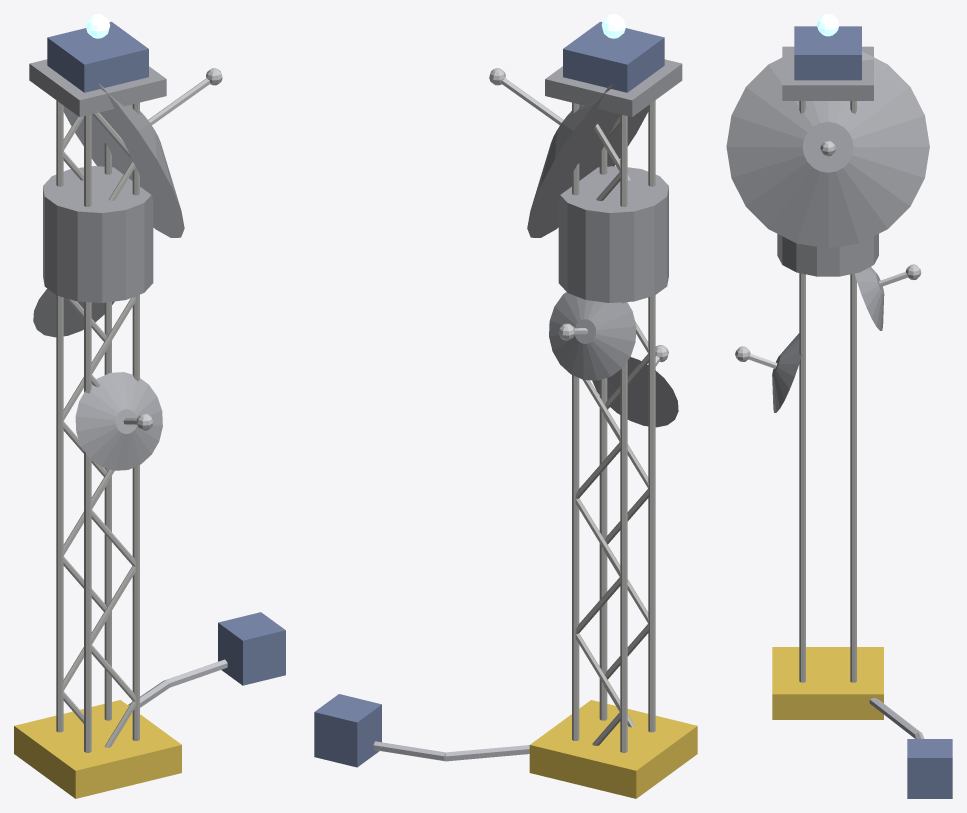
Rendered from sensor_mast.glb.
3 renders of one model, left to right at view 1: azimuth 30°, elevation 25°; view 2: azimuth 150°, elevation 25°; view 3: azimuth 270°, elevation 25°, orthographic. The views are drawn at different scales.
Visible parts, largest first — view 1: mast_col, drum, mast_foot, sub_s_dish, main_dish_dish, cap, junction, mast_head, sub_p_dish, down, main_dish_feed; view 2: mast_col, drum, mast_foot, main_dish_dish, sub_p_dish, cap, junction, mast_head, sub_s_dish, down; view 3: main_dish_dish, mast_foot, mast_col, cap, drum, junction, mast_head, sub_s_dish, sub_p_dish, down.
Boxes of the visible parts, bbox=[...] form: mast_col: bbox=[56, 100, 139, 752]; drum: bbox=[43, 166, 153, 302]; mast_foot: bbox=[14, 700, 181, 798]; sub_s_dish: bbox=[75, 372, 162, 470]; main_dish_dish: bbox=[63, 83, 184, 237]; cap: bbox=[47, 21, 148, 92]; junction: bbox=[218, 612, 285, 685]; mast_head: bbox=[29, 59, 166, 116]; sub_p_dish: bbox=[33, 288, 114, 337]; down: bbox=[128, 659, 227, 707]; main_dish_feed: bbox=[148, 78, 210, 124]; mast_col: bbox=[572, 100, 655, 752]; drum: bbox=[558, 166, 668, 302]; mast_foot: bbox=[529, 700, 697, 798]; main_dish_dish: bbox=[527, 83, 648, 237]; sub_p_dish: bbox=[549, 292, 636, 380]; cap: bbox=[563, 21, 664, 92]; junction: bbox=[314, 694, 381, 767]; mast_head: bbox=[545, 59, 682, 116]; sub_s_dish: bbox=[592, 357, 678, 427]; down: bbox=[373, 741, 529, 761]; main_dish_dish: bbox=[726, 51, 929, 248]; mast_foot: bbox=[772, 647, 883, 719]; mast_col: bbox=[799, 101, 856, 682]; cap: bbox=[794, 26, 861, 80]; drum: bbox=[777, 234, 878, 276]; junction: bbox=[907, 739, 952, 798]; mast_head: bbox=[782, 46, 873, 100]; sub_s_dish: bbox=[772, 333, 801, 412]; sub_p_dish: bbox=[855, 267, 884, 330]; down: bbox=[869, 697, 924, 738].
Bounding box in the file's own units: 5.29 × 13.33 × 4.
